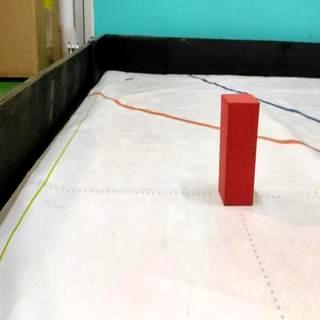redbox: (218, 92, 260, 207)
